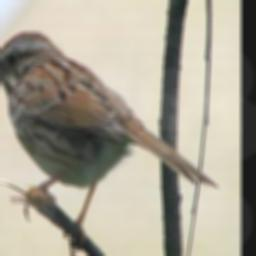Sparrow: (0, 27, 221, 256)
